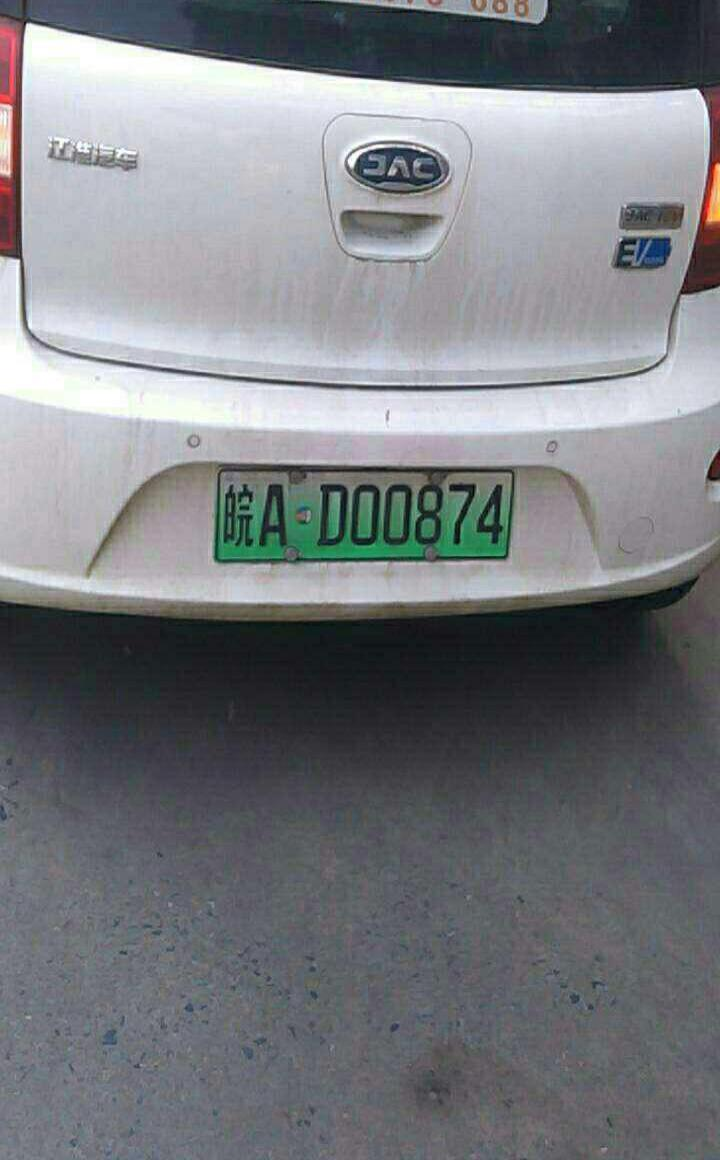car_green: (211, 461, 525, 568)
